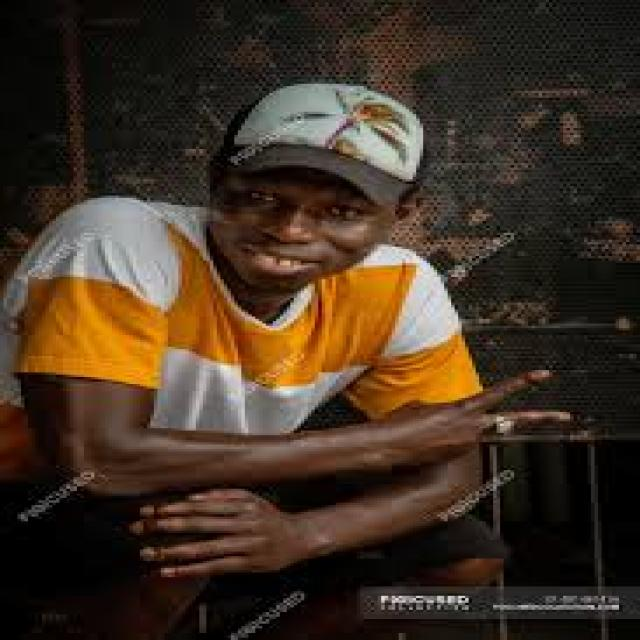cap: (210, 77, 433, 296)
